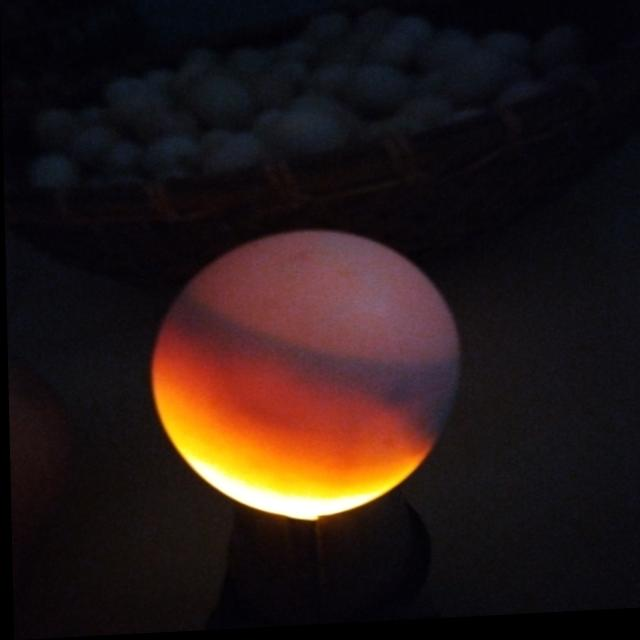Area Infectada: (164, 293, 460, 446)
